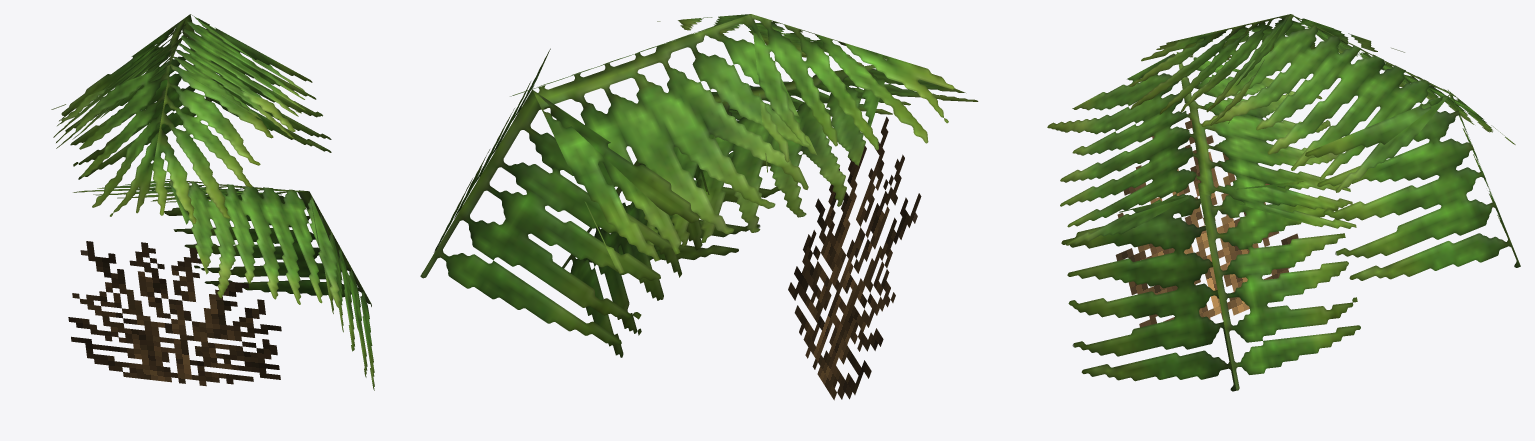
Rendered from caribbean_royal_palm_corner_1.obj.
3 renders of one model, left to right at view 1: azimuth 30°, elevation 25°; view 2: azimuth 150°, elevation 25°; view 3: azimuth 270°, elevation 25°, orthographic. The views are drawn at different scales.
Parts seen in each view (by area): view 1: cube.299; view 2: cube.299; view 3: cube.299.
Boxes of the visible parts, x1,y1,x2,y2 form: cube.299: [51, 14, 374, 390]; cube.299: [420, 14, 978, 400]; cube.299: [1047, 14, 1520, 391].
Bounding box in the file's own units: 2.74 × 2.28 × 2.94.
